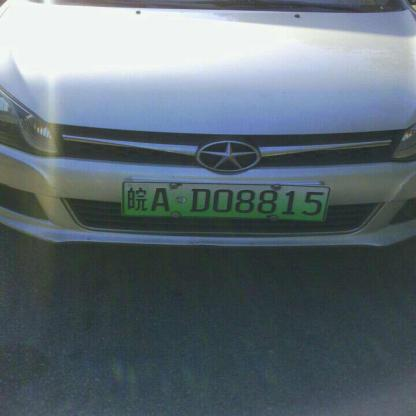lp: (121, 180, 330, 221)
